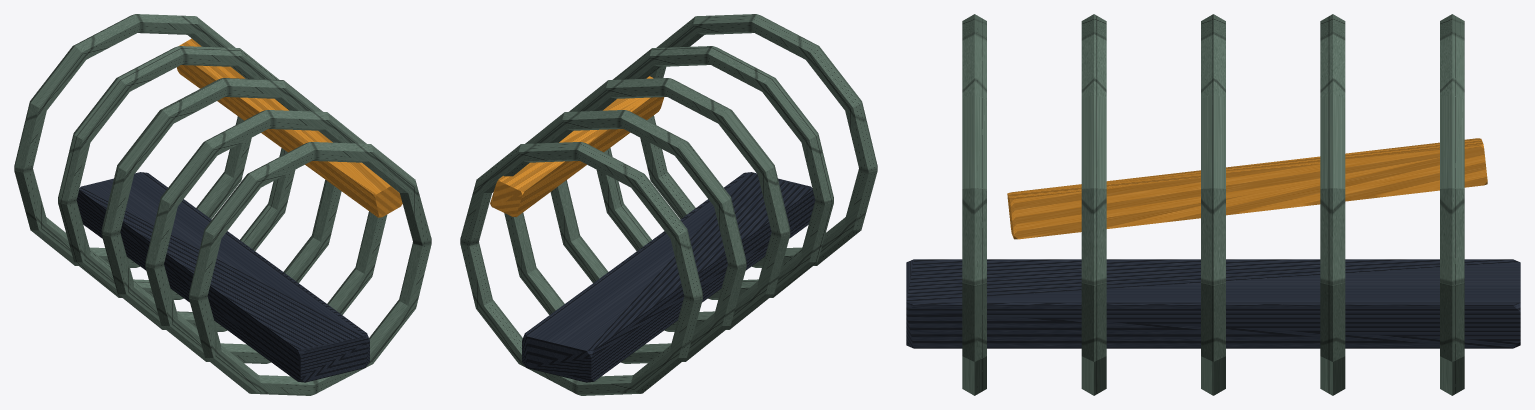
File: env_derelict_hull.glb
3 views of the same model, side by side, from view 1: azimuth 30°, elevation 25°; view 2: azimuth 150°, elevation 25°; view 3: azimuth 270°, elevation 25° (orthographic). The views are drawn at different scales.
Visible parts, largest first — view 1: env_derelict_hull; view 2: env_derelict_hull; view 3: env_derelict_hull.
Part boxes in pixels (box(x1,y1,x2,y2)): env_derelict_hull: box(14, 14, 431, 395); env_derelict_hull: box(460, 14, 877, 395); env_derelict_hull: box(906, 14, 1520, 395).
Size of the model in its own units: 11.24 by 11.24 by 18.
1 material, 1 textured.
